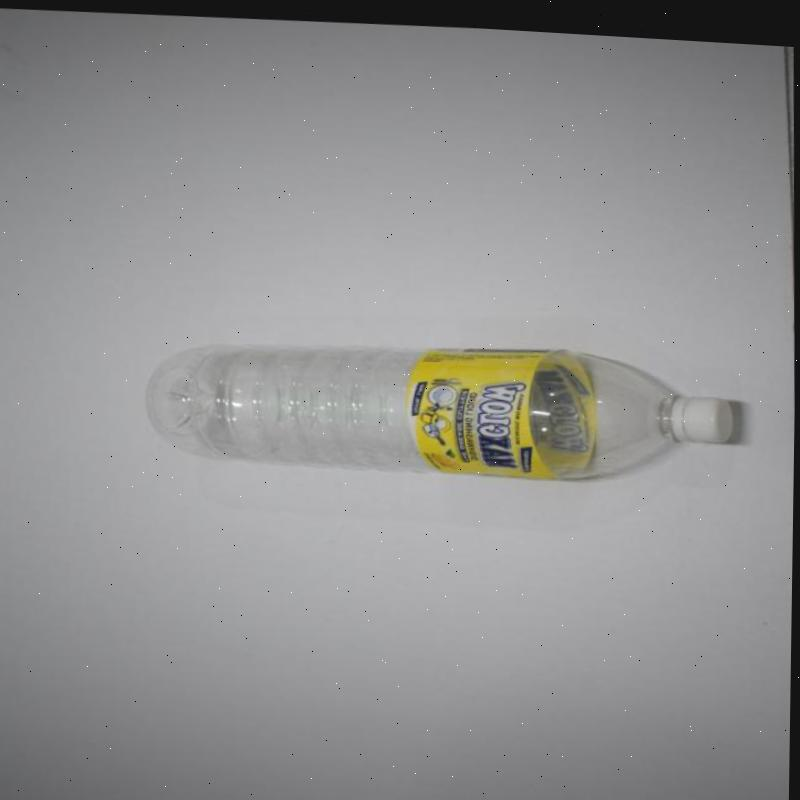botella: (146, 315, 739, 487)
